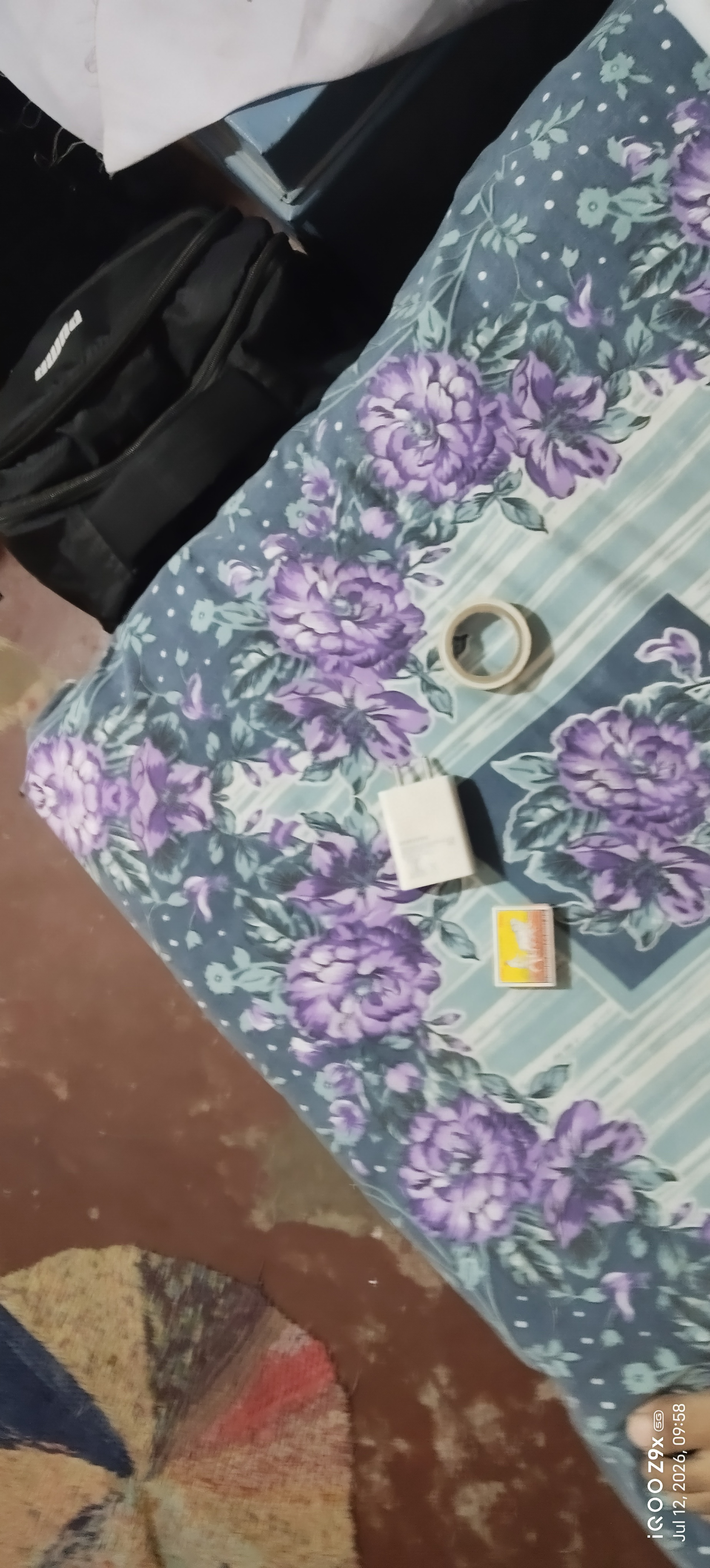charger: (357, 749, 489, 904)
matchbox: (482, 897, 571, 996)
tape_roll: (436, 587, 541, 703)
